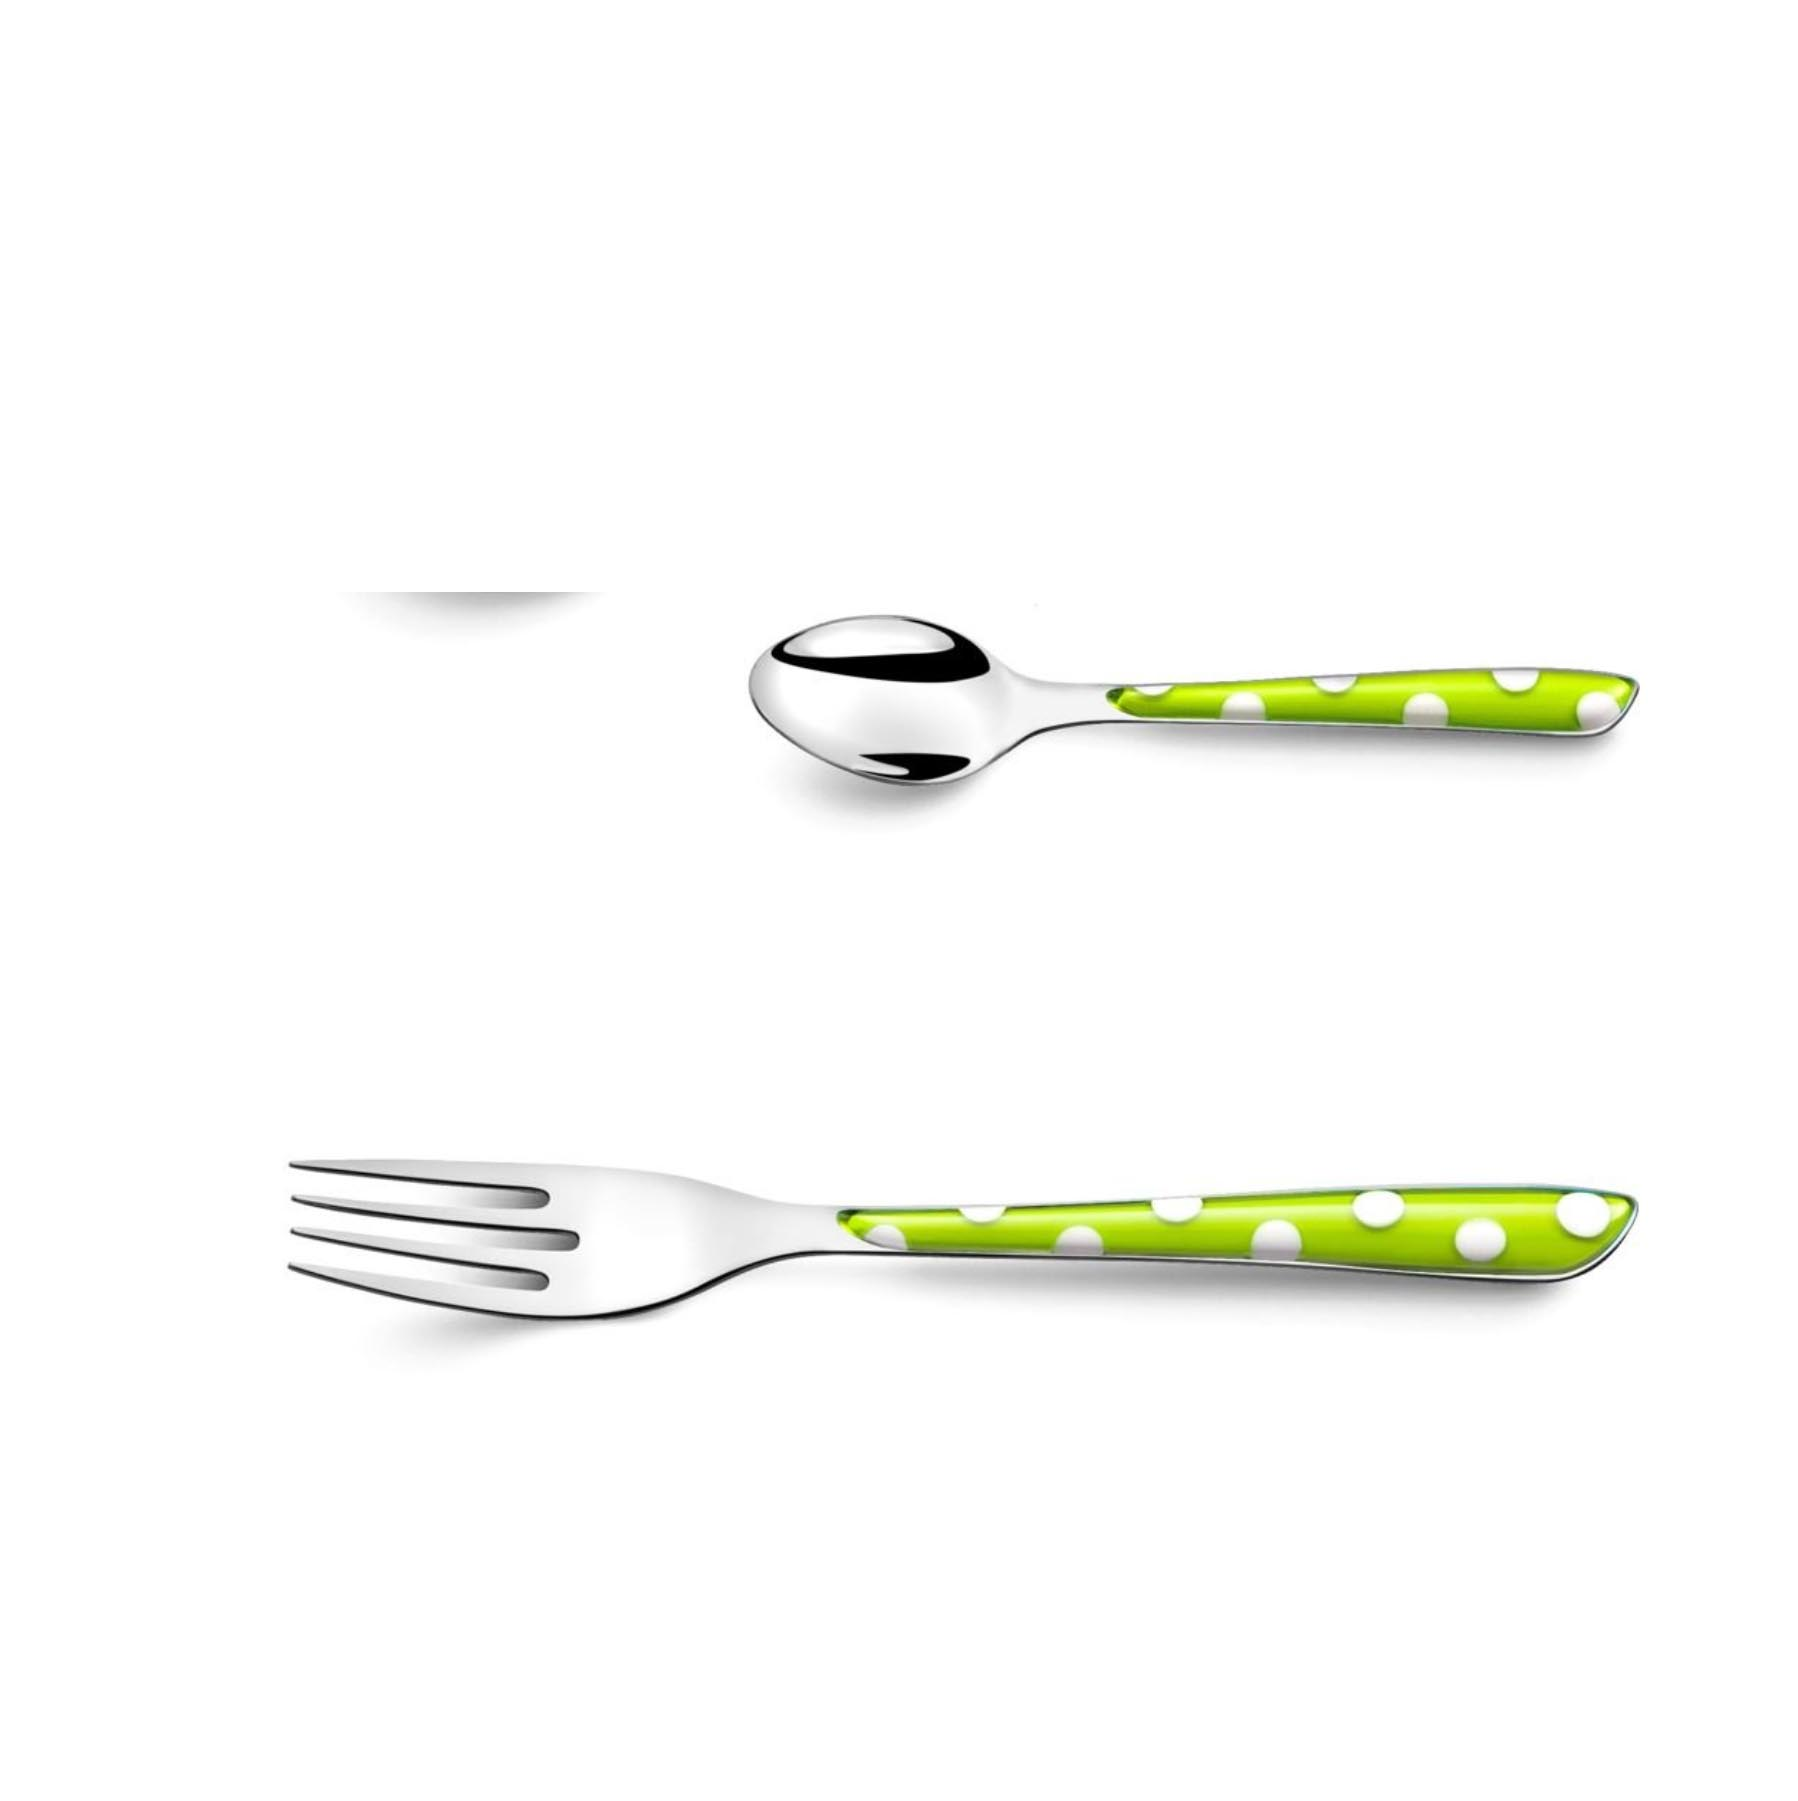Lyzka: (744, 612, 1057, 805)
Widelec: (267, 1138, 767, 1335)
